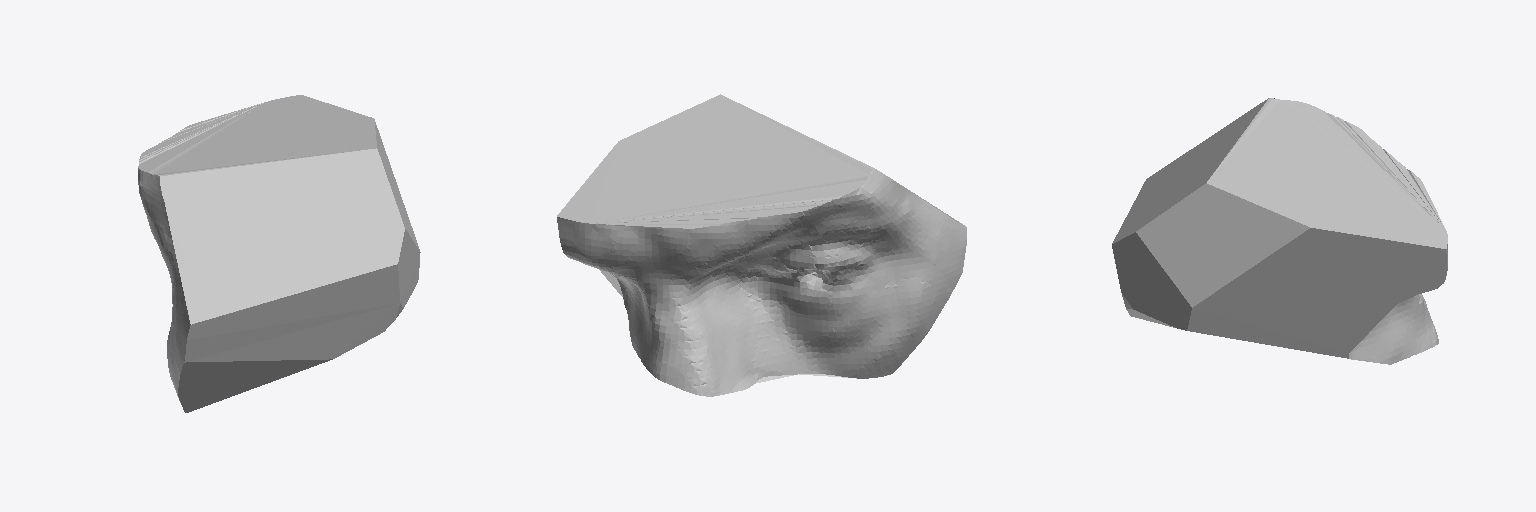
The model's file is low_cell_009.obj.
The picture shows the model from 3 angles: view 1: azimuth 30°, elevation 25°; view 2: azimuth 150°, elevation 25°; view 3: azimuth 270°, elevation 25°; orthographic projection.
Visible parts, largest first — view 1: low_cell.009_low_cell.008; view 2: low_cell.009_low_cell.008; view 3: low_cell.009_low_cell.008.
Part boxes in pixels (x1,y1,x2,y2): low_cell.009_low_cell.008: (138, 95, 420, 412); low_cell.009_low_cell.008: (557, 94, 966, 396); low_cell.009_low_cell.008: (1112, 98, 1447, 364).
Bounding box in the file's own units: 0.9075 × 0.739 × 0.989.